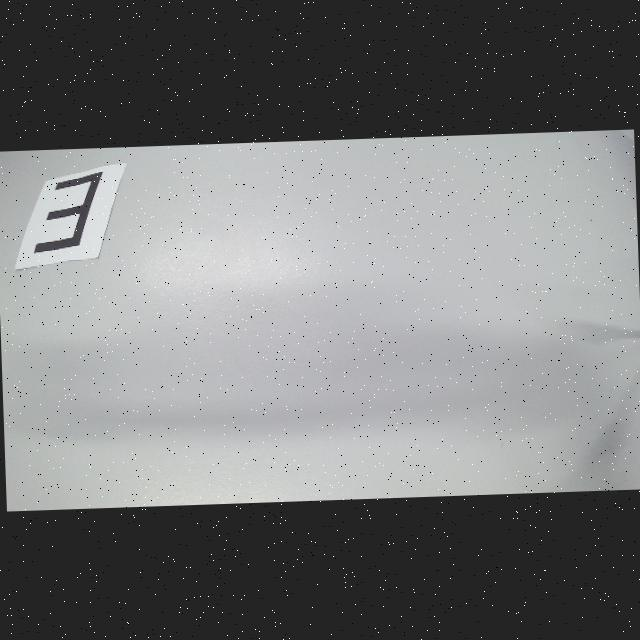FAKE: (30, 170, 106, 252)
